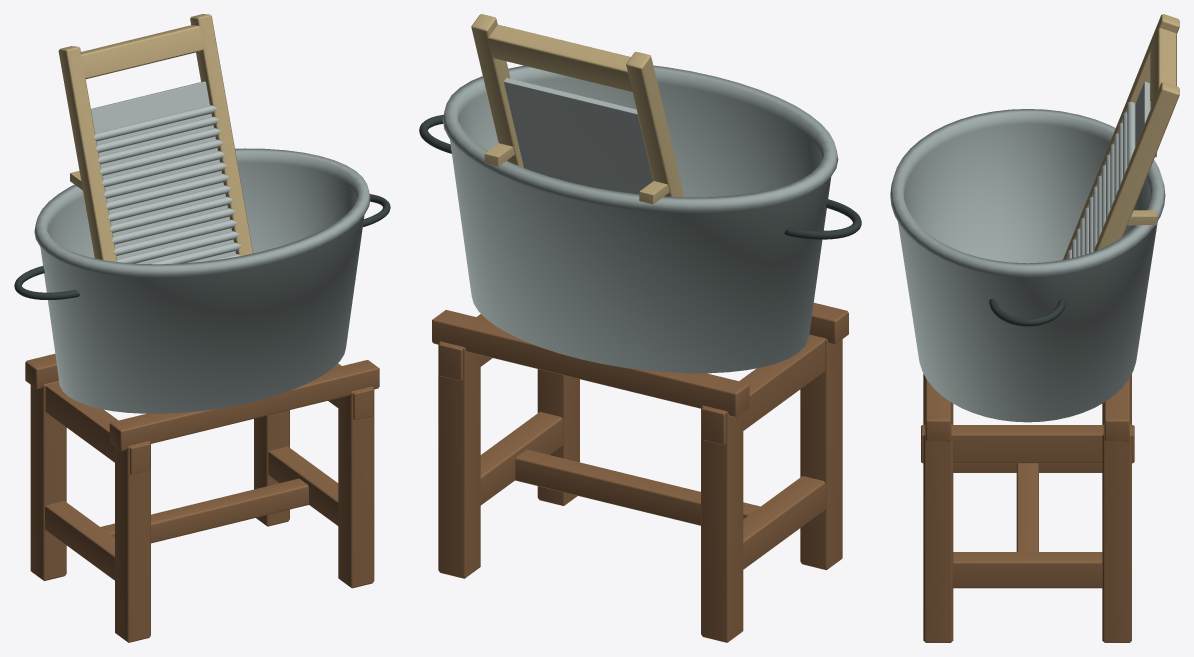
File: rpg-mansion-manual-wash-tub-board-01.glb
The picture shows the model from 3 angles, left to right: view 1: azimuth 30°, elevation 25°; view 2: azimuth 150°, elevation 25°; view 3: azimuth 270°, elevation 25°; orthographic projection. The views are drawn at different scales.
Visible parts, largest first — view 1: rpg-mansion-manual-wash-tub-board-01; view 2: rpg-mansion-manual-wash-tub-board-01; view 3: rpg-mansion-manual-wash-tub-board-01.
Boxes of the visible parts, x1,y1,x2,y2 form: rpg-mansion-manual-wash-tub-board-01: (14,14,390,642); rpg-mansion-manual-wash-tub-board-01: (419,14,861,642); rpg-mansion-manual-wash-tub-board-01: (890,14,1179,642).
Size of the model in its own units: 0.9092 by 1.17 by 0.583.
